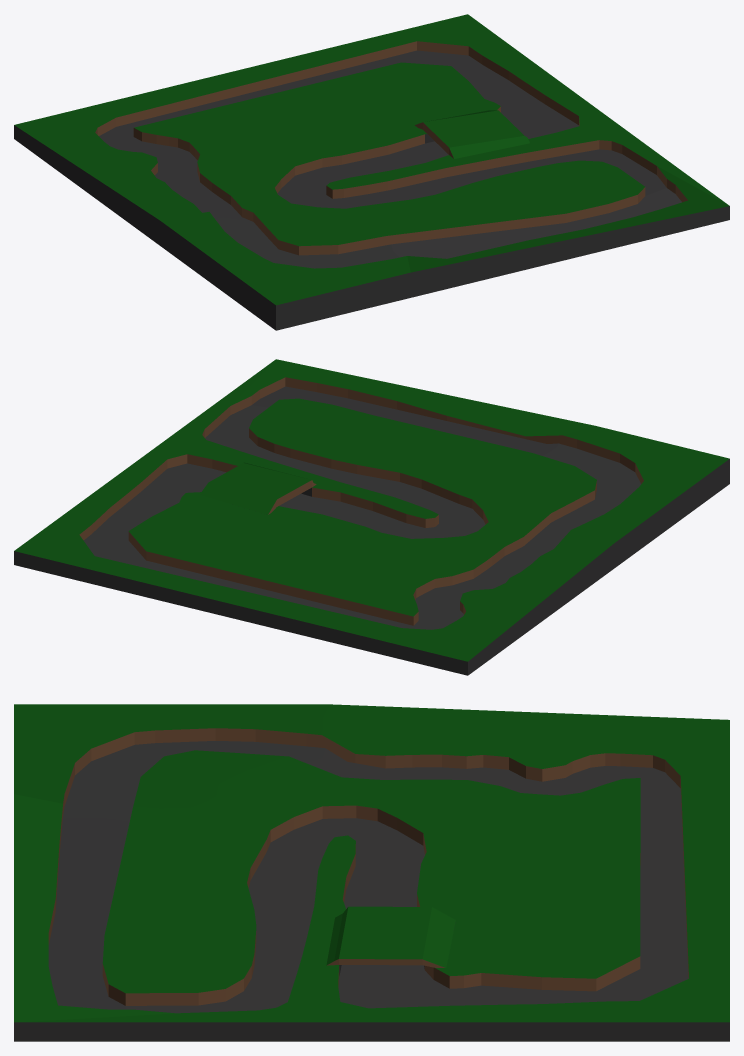
Rendered from Basic_track.gltf.
The picture shows the model from 3 angles, top to bottom: view 1: azimuth 30°, elevation 25°; view 2: azimuth 150°, elevation 25°; view 3: azimuth 270°, elevation 25°; orthographic projection. The views are drawn at different scales.
Visible parts, largest first — view 1: Plane; view 2: Plane; view 3: Plane.
Boxes of the visible parts, x1,y1,x2,y2 form: Plane: (14, 14, 729, 330); Plane: (14, 359, 729, 675); Plane: (14, 704, 729, 1041).
Bounding box in the file's own units: 50 × 2.67 × 50.
